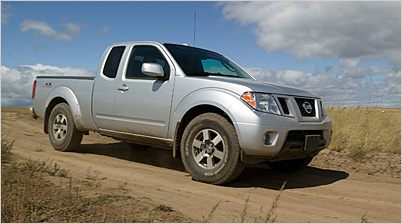pickup: (27, 39, 335, 188)
